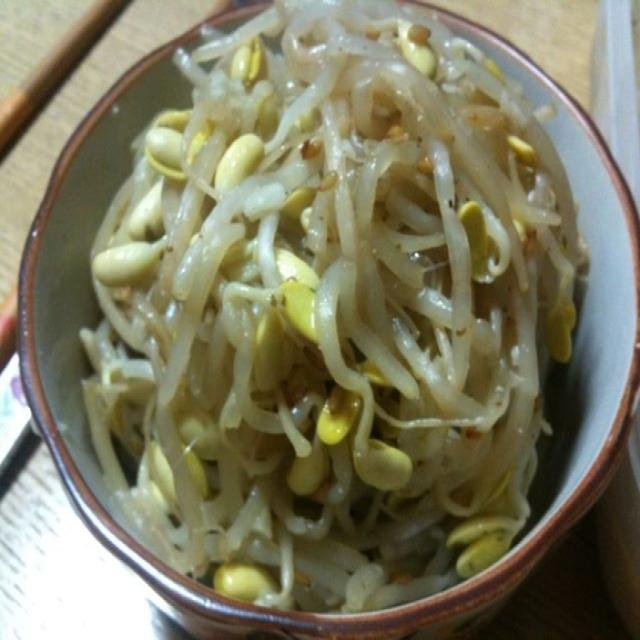炸货点心: (0, 104, 581, 588)
熟制海鲜: (0, 104, 581, 588)
